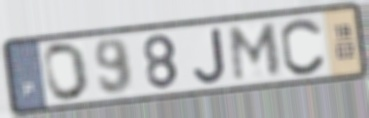8: (142, 33, 182, 92)
9: (92, 36, 135, 97)
C: (279, 16, 328, 77)
J: (191, 26, 229, 86)
M: (228, 21, 283, 84)
O: (42, 41, 91, 104)
